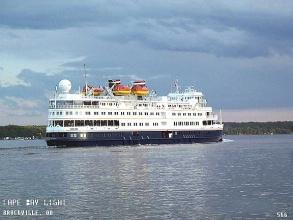youlun: (40, 71, 226, 149)
